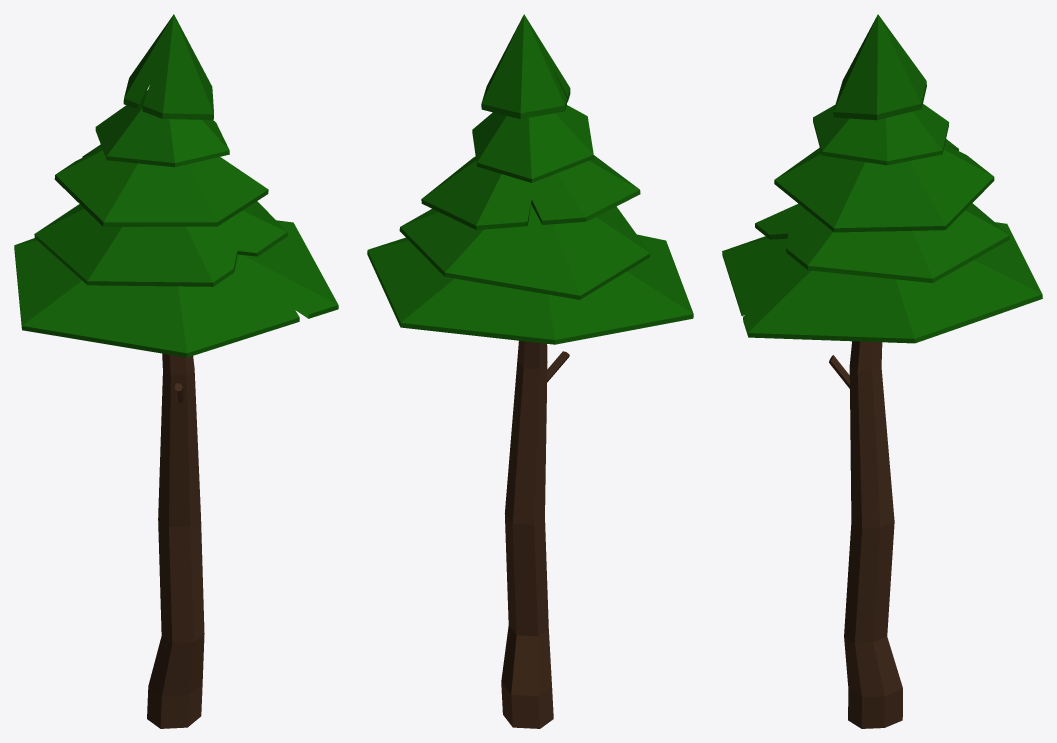
The model's file is Baum 1.fbx.
3 renders of one model, left to right at view 1: azimuth 30°, elevation 25°; view 2: azimuth 150°, elevation 25°; view 3: azimuth 270°, elevation 25°, orthographic.
Parts seen in each view (by area): view 1: Cylinder; view 2: Cylinder; view 3: Cylinder.
Part boxes in pixels (box(x1,y1,x2,y2)): Cylinder: box(14, 14, 338, 728); Cylinder: box(367, 14, 693, 728); Cylinder: box(722, 14, 1042, 728).
Size of the model in its own units: 382 by 860 by 353.
Materials: 1 (1 with a texture image).
